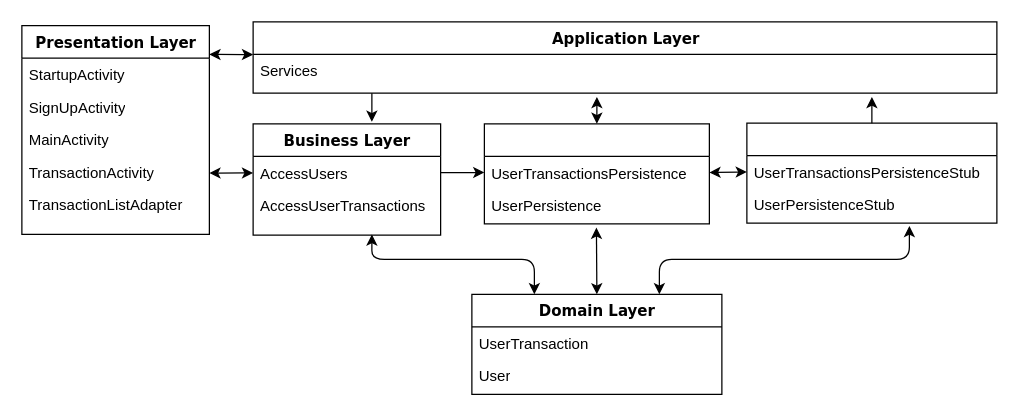
Some shapes in this 1019 by 418 pixel diagram are drawn without their labels. Here are the shapes that lost their labels. From the top down, the box of each, then its label:
(483, 122, 709, 224): Persistence Layer
(746, 122, 997, 223): Data Layer
